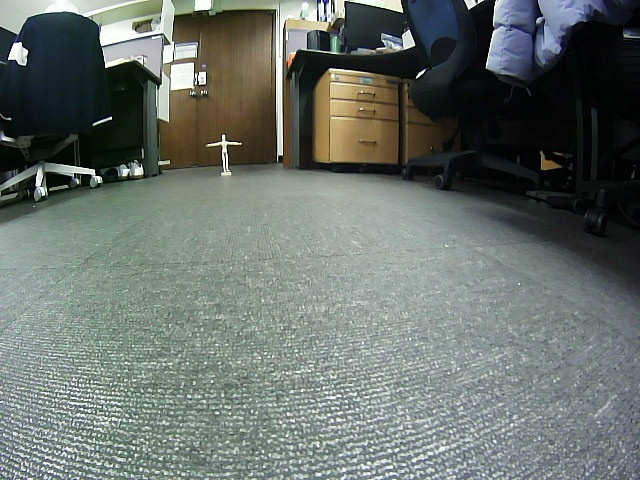person: (205, 135, 242, 173)
